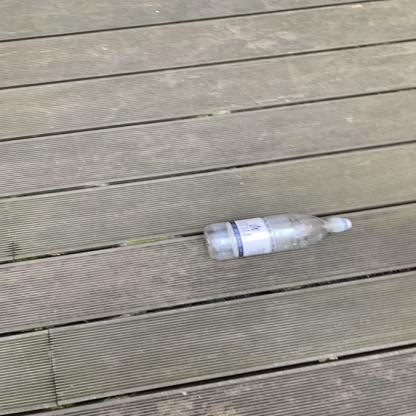trash: (200, 210, 354, 260)
